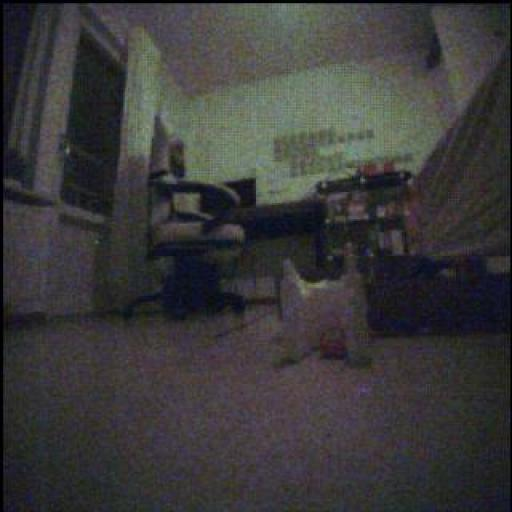basket: (321, 332, 350, 361)
